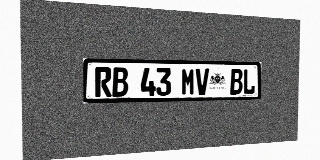3: (156, 68, 171, 96)
4: (141, 68, 156, 96)
B: (112, 67, 128, 97), (230, 69, 243, 95)
L: (243, 69, 255, 94)
M: (181, 68, 195, 95)
R: (95, 67, 112, 97)
V: (195, 68, 209, 95)
